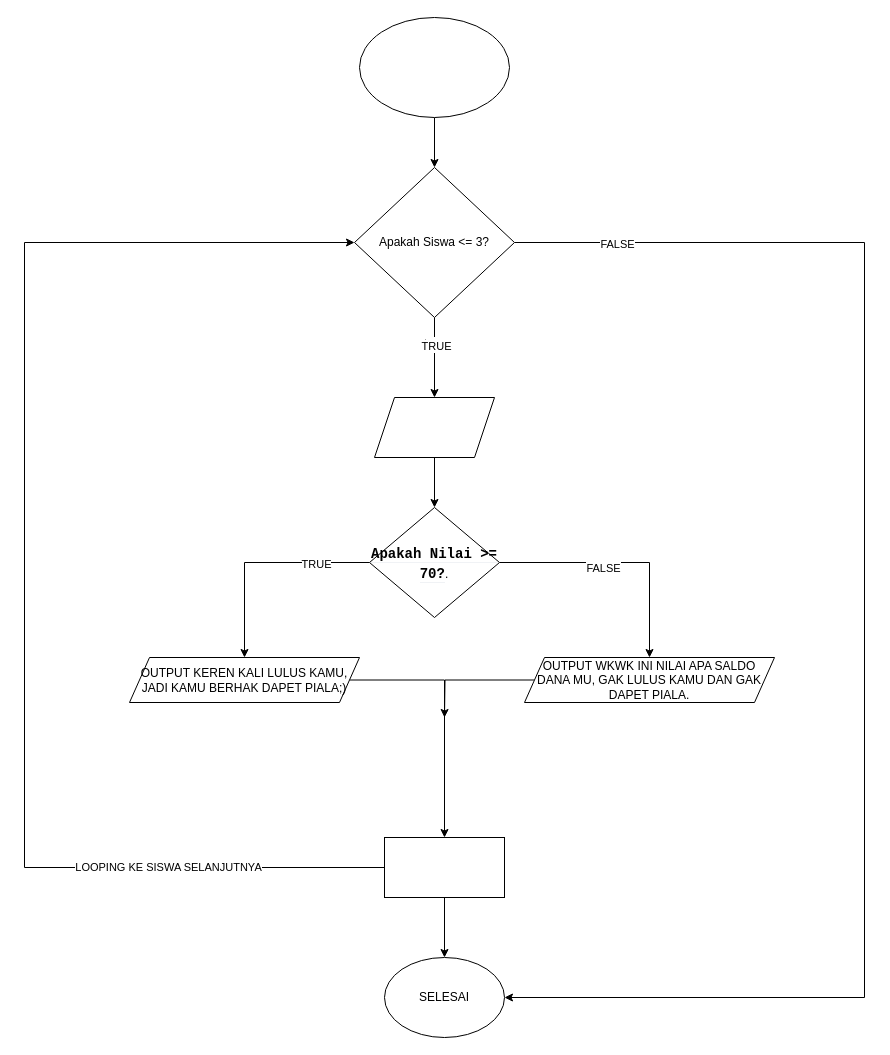
Image size: 890x1055. Some labels were removed from this diagram. The shapes that lost their labels are listed below. From the top down, each one's centre as x and y in pixels, then its label:
pixel 434 67: MULAI
pixel 434 427: Input Nilai Juara
pixel 444 867: PROSES HITUNG NILAI
